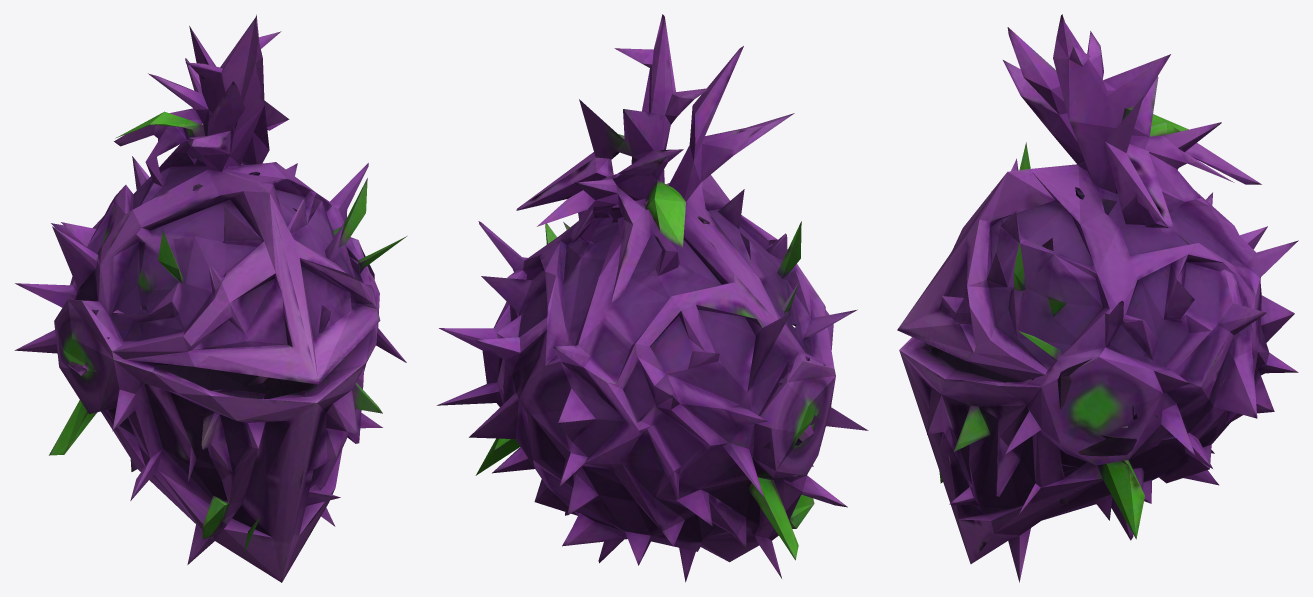
The model's file is ronce_casque.glb.
3 views of the same model, side by side, from view 1: azimuth 30°, elevation 25°; view 2: azimuth 150°, elevation 25°; view 3: azimuth 270°, elevation 25° (orthographic). The views are drawn at different scales.
Parts seen in each view (by area): view 1: geometry_0; view 2: geometry_0; view 3: geometry_0.
Boxes of the visible parts, x1,y1,x2,y2 form: geometry_0: (14,14,406,582); geometry_0: (436,14,868,582); geometry_0: (897,14,1298,582).
Bounding box in the file's own units: 0.6086 × 0.981 × 0.6383.
1 material, 1 textured.
